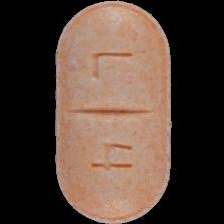53808-0279: (0, 0, 224, 224)
